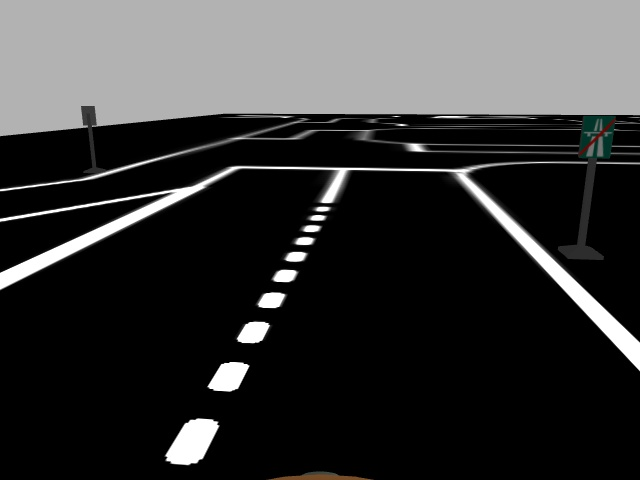leave_highway: (575, 115, 616, 161)
